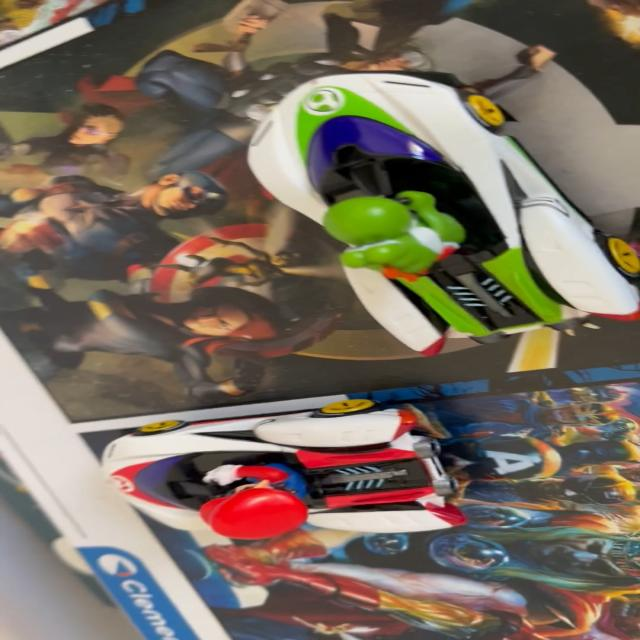mario: (79, 388, 498, 549)
yoshi: (222, 52, 638, 371)
